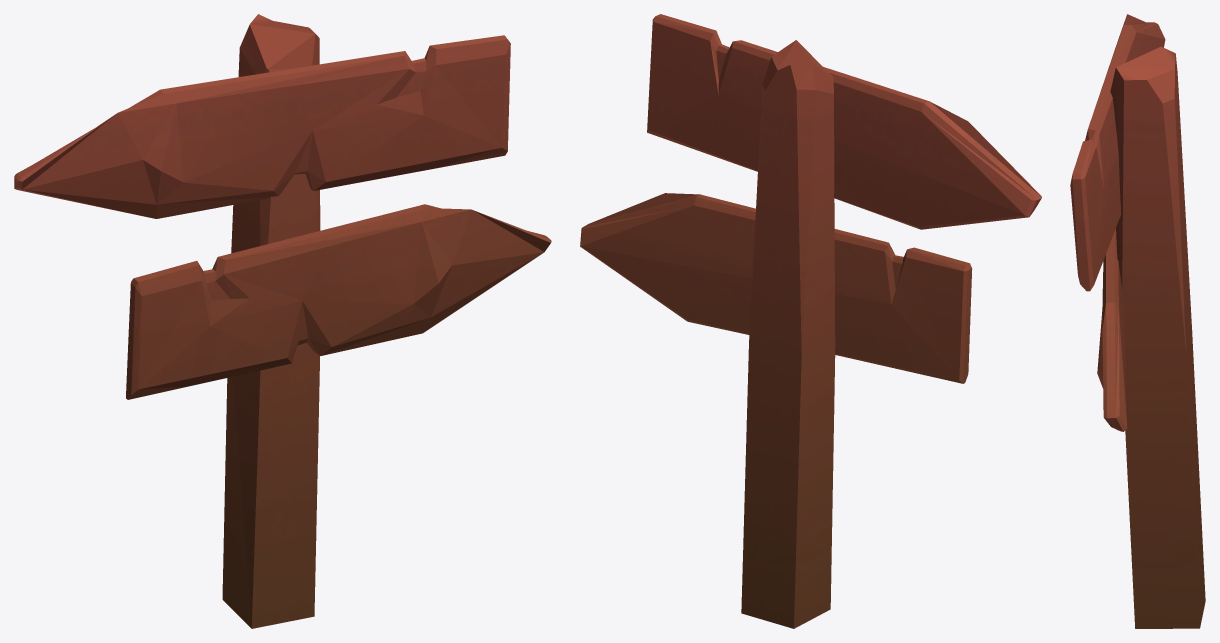
3 renders of one model, left to right at view 1: azimuth 30°, elevation 25°; view 2: azimuth 150°, elevation 25°; view 3: azimuth 270°, elevation 25°, orthographic. The views are drawn at different scales.
Visible parts, largest first — view 1: Signpost1; view 2: Signpost1; view 3: Signpost1.
Boxes of the visible parts, left/top/right/bottom form: Signpost1: left=14, top=14, right=551, bottom=628; Signpost1: left=580, top=14, right=1041, bottom=628; Signpost1: left=1070, top=14, right=1205, bottom=628.
Size of the model in its own units: 144 by 160 by 35.06.
Materials: 1 (1 with a texture image).
